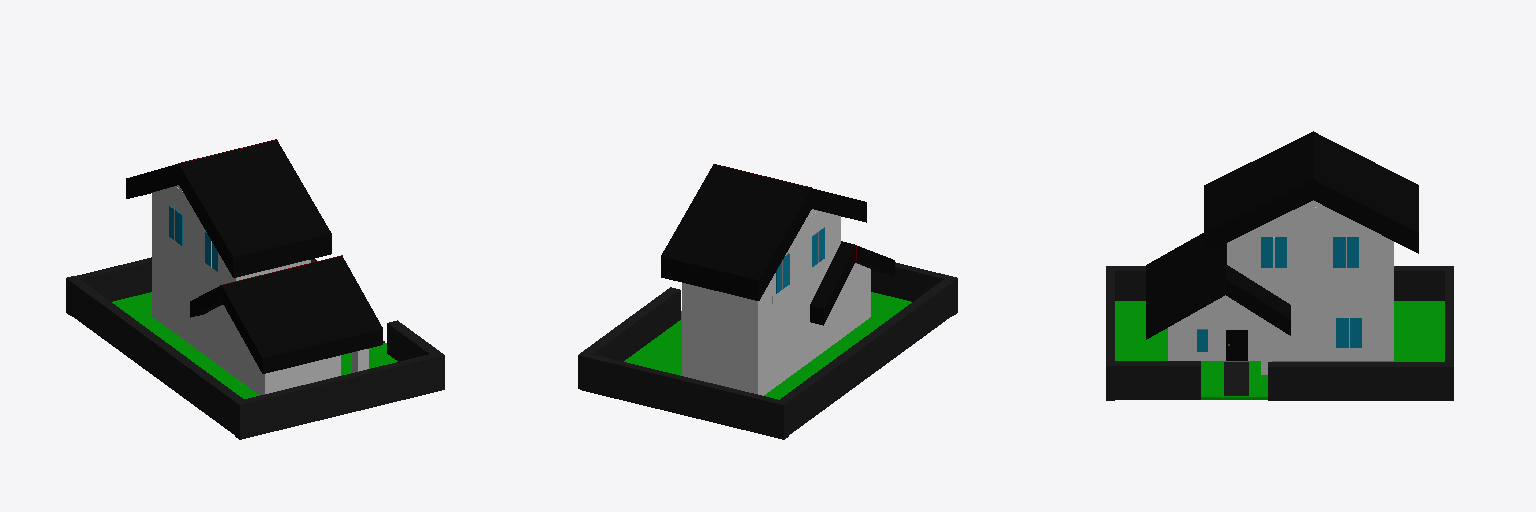
Rendered from housettest.obj.
3 renders of one model, left to right at view 1: azimuth 30°, elevation 25°; view 2: azimuth 150°, elevation 25°; view 3: azimuth 270°, elevation 25°, orthographic.
Parts seen in each view (by area): view 1: Cube.001; view 2: Cube.001; view 3: Cube.001.
Part boxes in pixels (bbox=[...]): Cube.001: bbox=[66, 139, 444, 439]; Cube.001: bbox=[578, 164, 957, 439]; Cube.001: bbox=[1106, 131, 1453, 400].
Size of the model in its own units: 13.99 by 12.33 by 20.41.